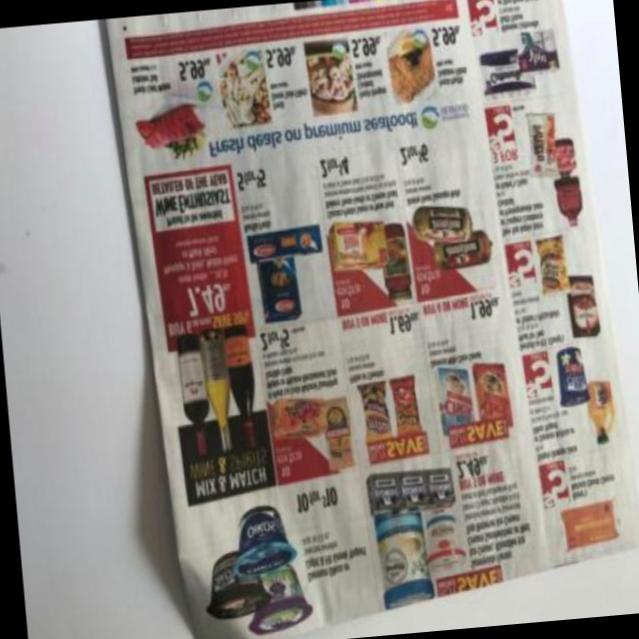cardboard paper: (107, 0, 639, 639)
